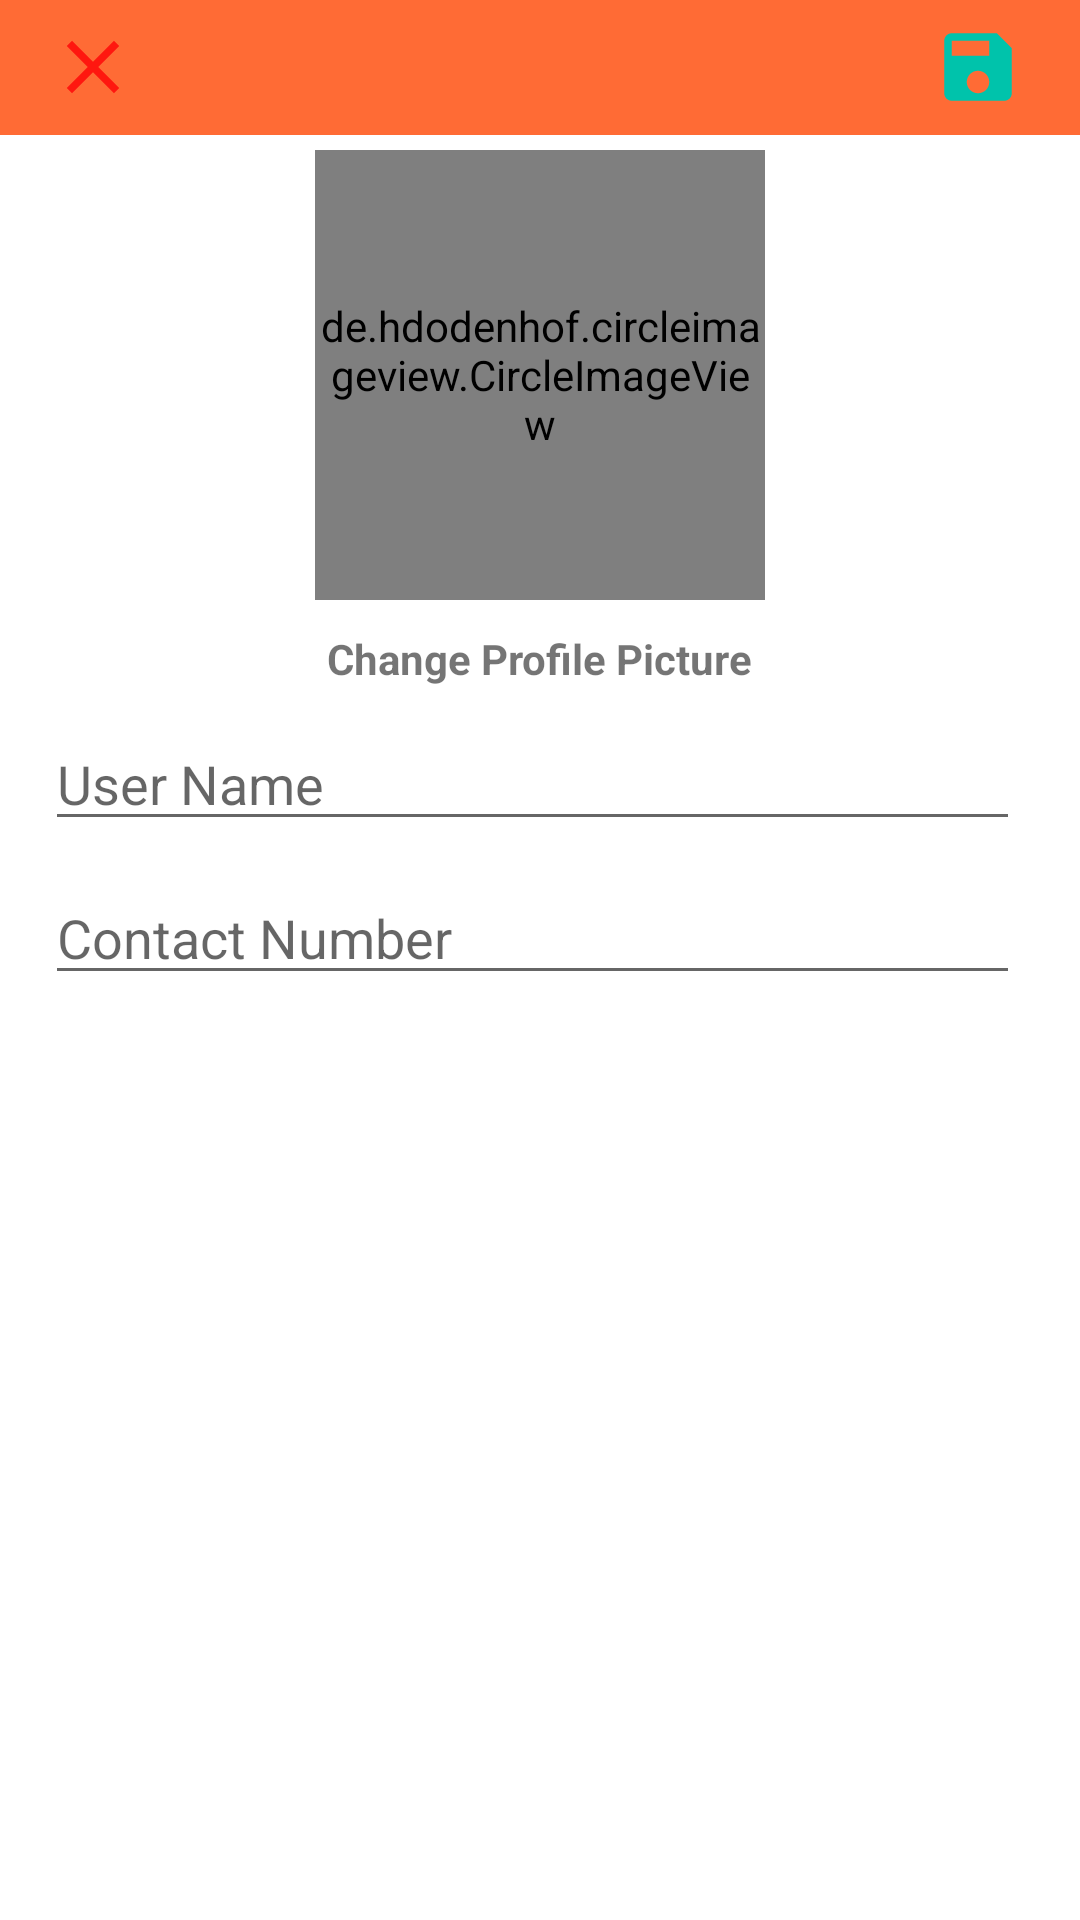

Where to tap for icons on this 1080×1920 app screen, as (x=x, y=y):
close: (x=93, y=67)
save: (x=978, y=67)
